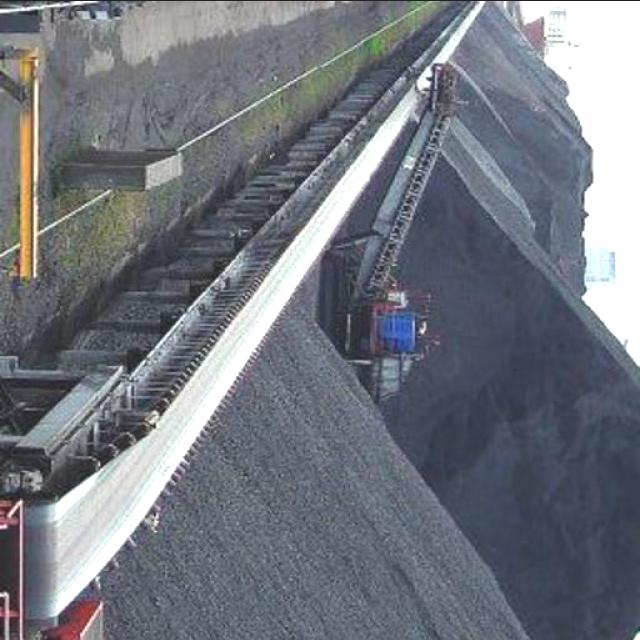conveyor: (54, 0, 486, 611)
